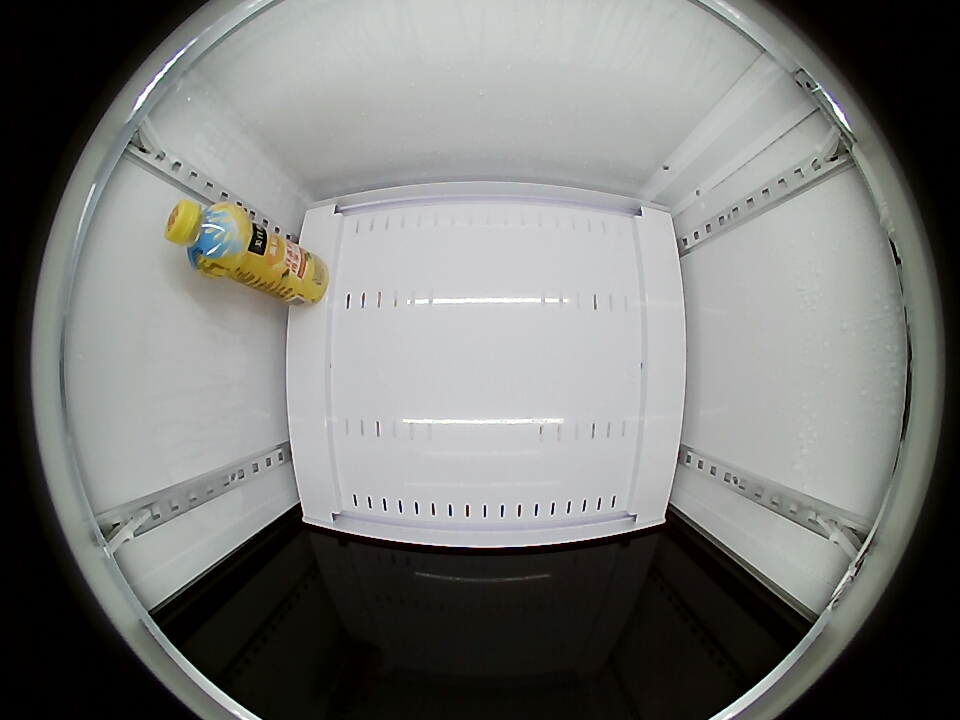guolicheng: (164, 199, 248, 276)
